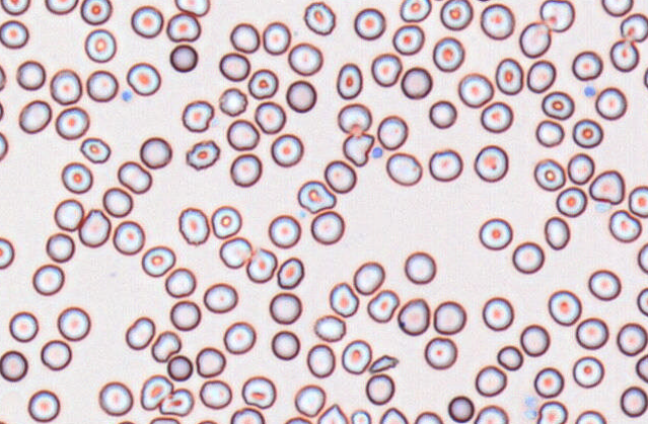PLT: (119, 87, 135, 104), (583, 83, 596, 98), (370, 145, 383, 159)
RBC: (473, 144, 508, 182), (385, 151, 422, 186), (78, 208, 111, 247), (457, 72, 493, 107), (547, 289, 581, 326), (480, 3, 514, 40), (397, 297, 430, 335), (98, 381, 133, 416), (287, 42, 323, 76), (518, 21, 551, 58), (117, 160, 152, 194), (310, 210, 344, 245), (126, 62, 161, 96), (50, 68, 82, 105), (178, 207, 209, 245), (267, 214, 301, 248), (241, 375, 276, 408), (57, 306, 90, 341), (112, 220, 145, 255), (245, 247, 277, 283), (376, 114, 408, 150), (432, 36, 464, 72), (433, 300, 466, 334), (366, 289, 399, 323), (352, 261, 385, 295), (323, 159, 356, 193), (18, 99, 51, 133), (229, 153, 262, 187), (55, 106, 89, 139), (428, 148, 462, 181), (478, 217, 512, 250), (270, 133, 303, 167), (337, 102, 372, 134), (481, 296, 513, 331), (84, 28, 116, 63), (370, 52, 402, 87), (539, 0, 574, 32), (474, 364, 507, 397), (27, 389, 60, 422), (424, 336, 457, 369), (269, 291, 302, 324), (223, 321, 256, 354), (608, 209, 641, 242), (139, 136, 172, 169), (403, 251, 436, 284), (130, 5, 163, 38), (141, 245, 175, 277), (254, 100, 286, 134), (303, 1, 335, 35), (595, 86, 627, 120), (203, 282, 238, 313), (185, 139, 220, 170), (495, 57, 523, 95), (572, 355, 604, 388), (575, 317, 608, 349), (512, 241, 544, 274), (86, 69, 118, 102), (226, 118, 259, 150), (400, 66, 432, 99), (588, 268, 621, 300), (210, 205, 242, 238), (480, 101, 513, 133), (533, 158, 565, 191), (353, 7, 385, 40), (616, 322, 647, 356), (341, 339, 371, 374), (169, 299, 201, 331), (32, 263, 64, 295), (294, 384, 325, 417), (53, 198, 84, 231), (519, 323, 550, 356), (61, 161, 92, 194), (285, 79, 316, 112), (125, 316, 155, 350), (166, 12, 200, 42), (526, 59, 556, 93), (439, 0, 473, 30), (306, 343, 335, 378), (40, 339, 72, 370), (533, 366, 564, 398), (555, 186, 587, 217), (392, 24, 424, 55), (571, 50, 603, 81), (199, 379, 232, 409), (609, 39, 639, 72), (541, 90, 574, 120), (262, 21, 291, 55), (336, 62, 362, 99), (102, 186, 133, 217), (229, 22, 260, 53), (247, 68, 278, 99), (164, 267, 196, 297), (8, 310, 38, 342), (218, 51, 250, 81), (195, 346, 225, 377), (572, 118, 603, 148), (365, 373, 394, 405), (313, 314, 346, 342), (276, 256, 304, 289), (543, 216, 570, 250), (45, 232, 75, 262), (271, 329, 300, 360), (16, 59, 45, 90), (0, 349, 28, 381), (619, 385, 647, 417), (567, 152, 594, 184), (0, 19, 29, 48), (218, 87, 247, 116), (169, 43, 198, 72), (428, 99, 457, 128), (79, 136, 110, 163), (535, 119, 564, 147), (620, 12, 647, 42), (80, 0, 112, 25), (166, 354, 193, 381), (447, 395, 474, 422), (536, 400, 567, 423), (399, 0, 431, 22), (496, 344, 523, 370), (473, 404, 508, 423), (316, 403, 348, 423), (628, 185, 647, 217), (230, 406, 265, 423), (174, 0, 210, 16), (601, 0, 633, 16), (44, 0, 78, 14), (379, 407, 408, 423), (0, 236, 14, 269), (0, 0, 30, 15), (574, 409, 606, 423), (414, 410, 442, 423), (635, 354, 647, 382), (636, 287, 647, 316), (637, 242, 647, 273), (350, 409, 371, 423), (0, 131, 8, 161), (149, 416, 180, 423), (284, 416, 312, 423), (0, 63, 6, 91), (643, 66, 648, 89), (0, 99, 4, 121), (196, 419, 217, 423), (116, 420, 135, 424)
Schistocyte: (297, 179, 338, 214), (140, 374, 174, 412), (589, 170, 625, 205), (158, 387, 195, 417), (151, 331, 182, 364), (182, 100, 212, 133), (343, 134, 372, 168), (368, 354, 403, 374)
